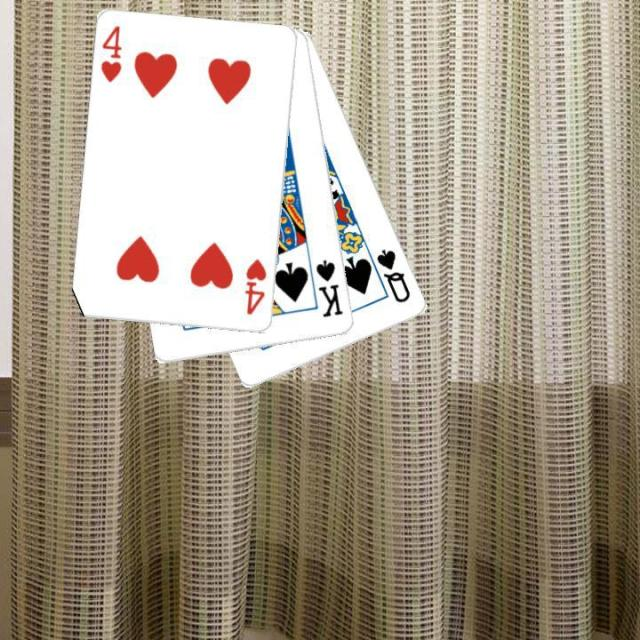4H: (241, 255, 269, 317), (97, 22, 124, 84)
KS: (312, 256, 346, 320)
QS: (372, 245, 412, 305)
